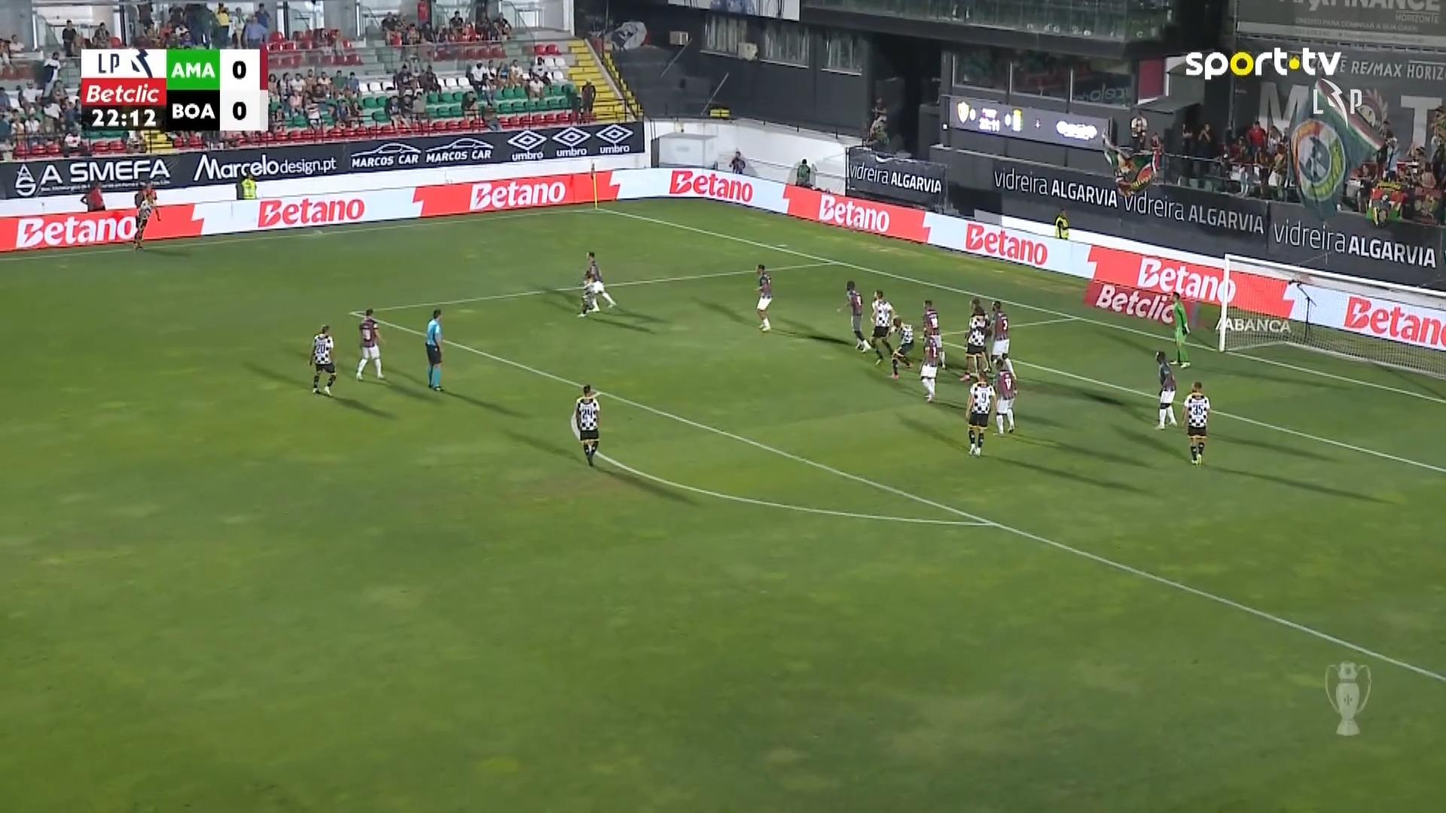goalkeeper: (1164, 290, 1191, 368)
player: (964, 371, 996, 457), (577, 250, 616, 317), (1180, 380, 1210, 465), (570, 384, 601, 466), (868, 288, 901, 365), (837, 280, 871, 352), (355, 307, 386, 381), (959, 309, 990, 381), (308, 324, 337, 395), (992, 355, 1018, 434), (1154, 349, 1178, 430), (132, 181, 161, 248), (920, 298, 946, 367), (987, 299, 1011, 368), (918, 336, 941, 402), (889, 315, 914, 373), (754, 263, 773, 331)
referee: (424, 307, 444, 391)
